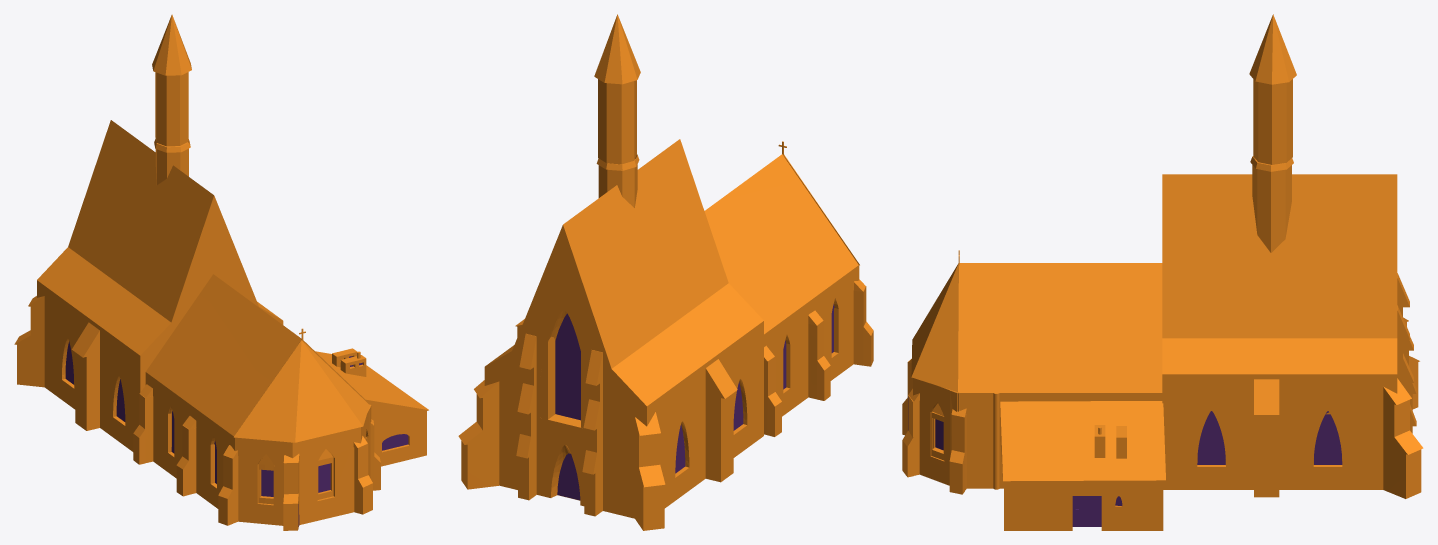
File: Sw Wacław.fbx
The picture shows the model from 3 angles, left to right: view 1: azimuth 30°, elevation 25°; view 2: azimuth 150°, elevation 25°; view 3: azimuth 270°, elevation 25°; orthographic projection. The views are drawn at different scales.
Parts seen in each view (by area): view 1: Radom_3D_Sw_Waclaw_2; view 2: Radom_3D_Sw_Waclaw_2; view 3: Radom_3D_Sw_Waclaw_2.
Boxes of the visible parts, x1,y1,x2,y2 form: Radom_3D_Sw_Waclaw_2: (14,14,428,530); Radom_3D_Sw_Waclaw_2: (458,14,873,530); Radom_3D_Sw_Waclaw_2: (902,14,1423,530).
Bounding box in the file's own units: 31.64 × 49.13 × 52.61.
Materials: 1 (1 with a texture image).
